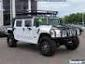car: (0, 2, 82, 52)
